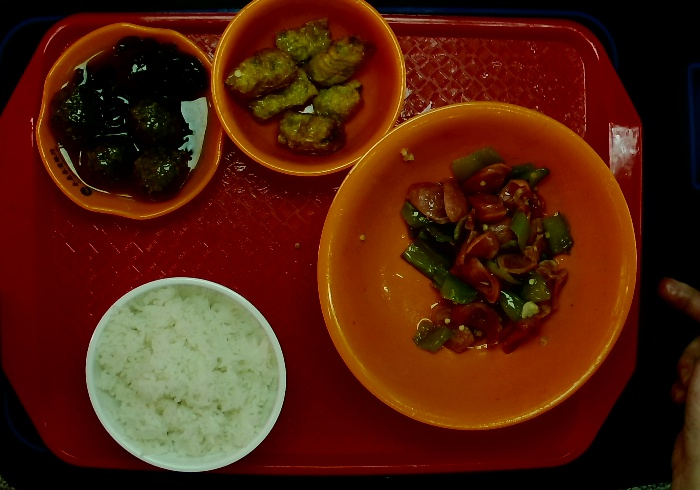YKMZ-Fan_Wan: (83, 278, 290, 470)
YKMZ-Ju_Se_Ao_Bian_Wan: (34, 24, 229, 217)
YKMZ-Ju_Se_Tang_Wan: (316, 100, 644, 430)
YKMZ-Ju_Se_Yuan_Wan: (209, 1, 410, 182)
